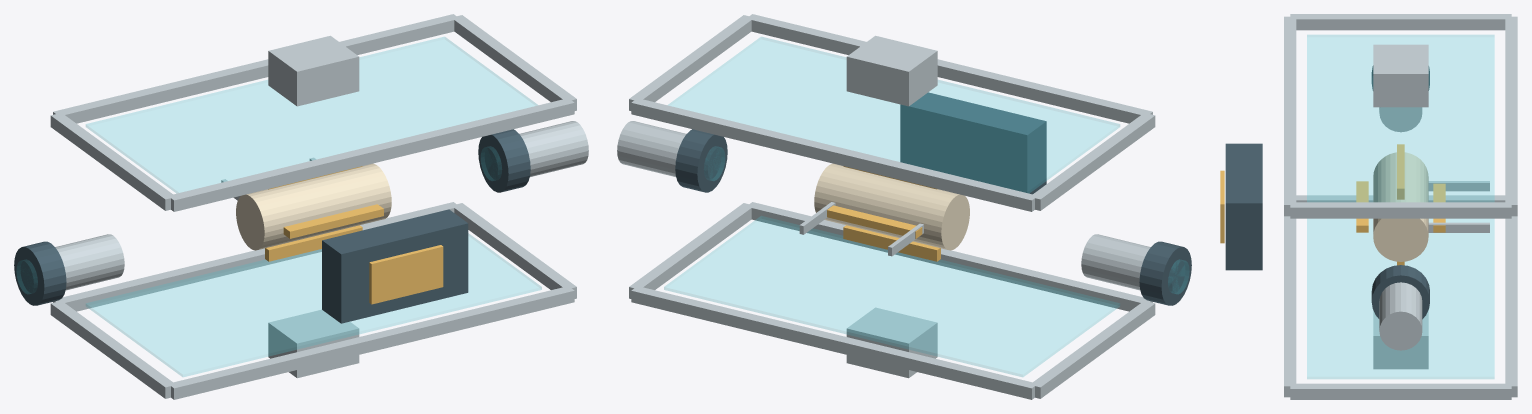
The model's file is DEPTH-MEMORY-cell.glb.
3 views of the same model, side by side, from view 1: azimuth 30°, elevation 25°; view 2: azimuth 150°, elevation 25°; view 3: azimuth 270°, elevation 25° (orthographic). The views are drawn at different scales.
Visible parts, largest first — view 1: window, frame, dark, sample, sensor; view 2: window, frame, dark, sample, sensor; view 3: window, frame, dark, sample, sensor.
Part boxes in pixels (left/top/right/bottom): window: left=16, top=37, right=541, bottom=376; frame: left=50, top=14, right=588, bottom=399; dark: left=14, top=129, right=530, bottom=323; sample: left=236, top=163, right=391, bottom=250; sensor: left=265, top=166, right=443, bottom=304; window: left=664, top=37, right=1189, bottom=376; frame: left=617, top=14, right=1155, bottom=399; dark: left=675, top=92, right=1191, bottom=305; sample: left=814, top=163, right=969, bottom=250; sensor: left=827, top=166, right=940, bottom=261; window: left=1307, top=35, right=1494, bottom=378; frame: left=1284, top=14, right=1517, bottom=399; dark: left=1225, top=65, right=1429, bottom=319; sample: left=1373, top=152, right=1428, bottom=261; sensor: left=1220, top=144, right=1445, bottom=265.
Size of the model in its own units: 0.4 by 0.212 by 0.1935.
